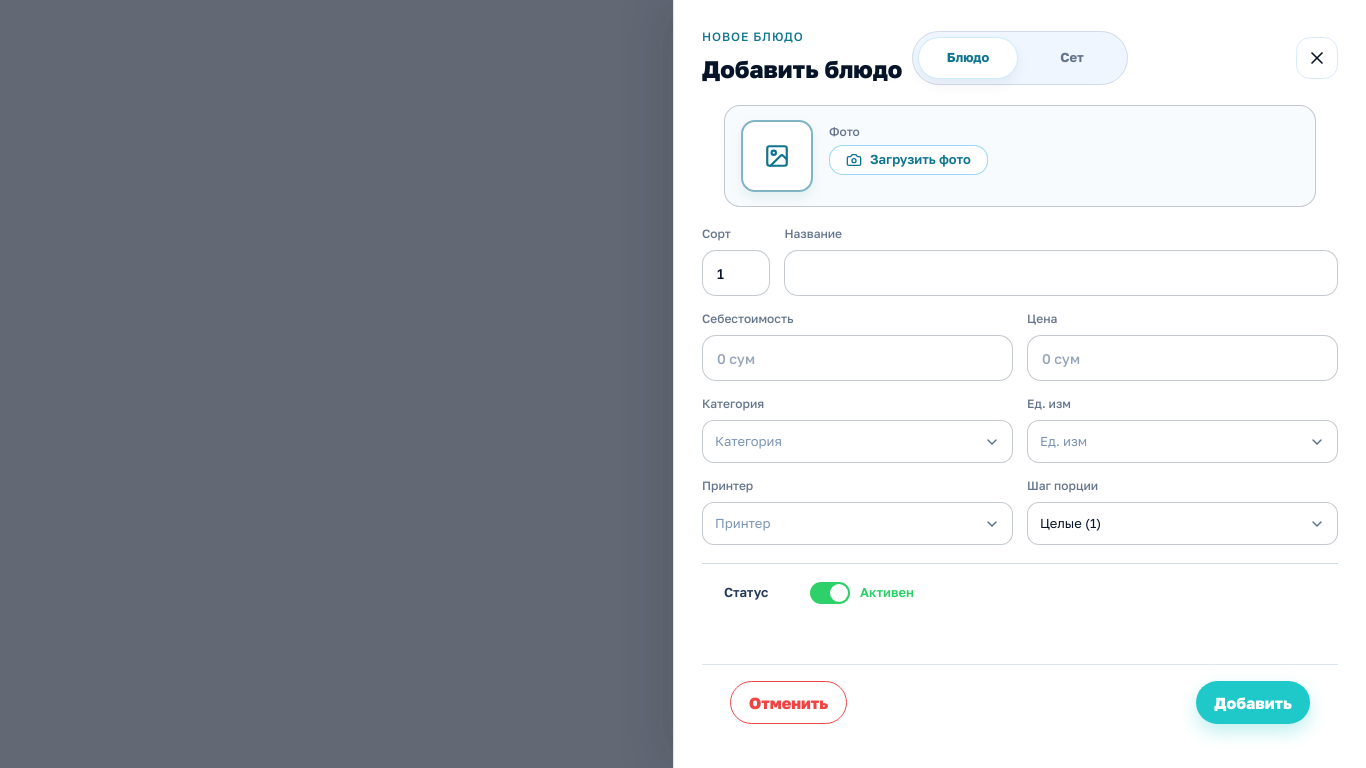
Test case: Dishes drawer switches › uses the printer dropdown pattern for real unit labels without a choose-unit option
This screenshot has width=1366, height=768.
Click the dropdown labelled "Ед. изм": (1064, 441) [1027,420,1338,463]
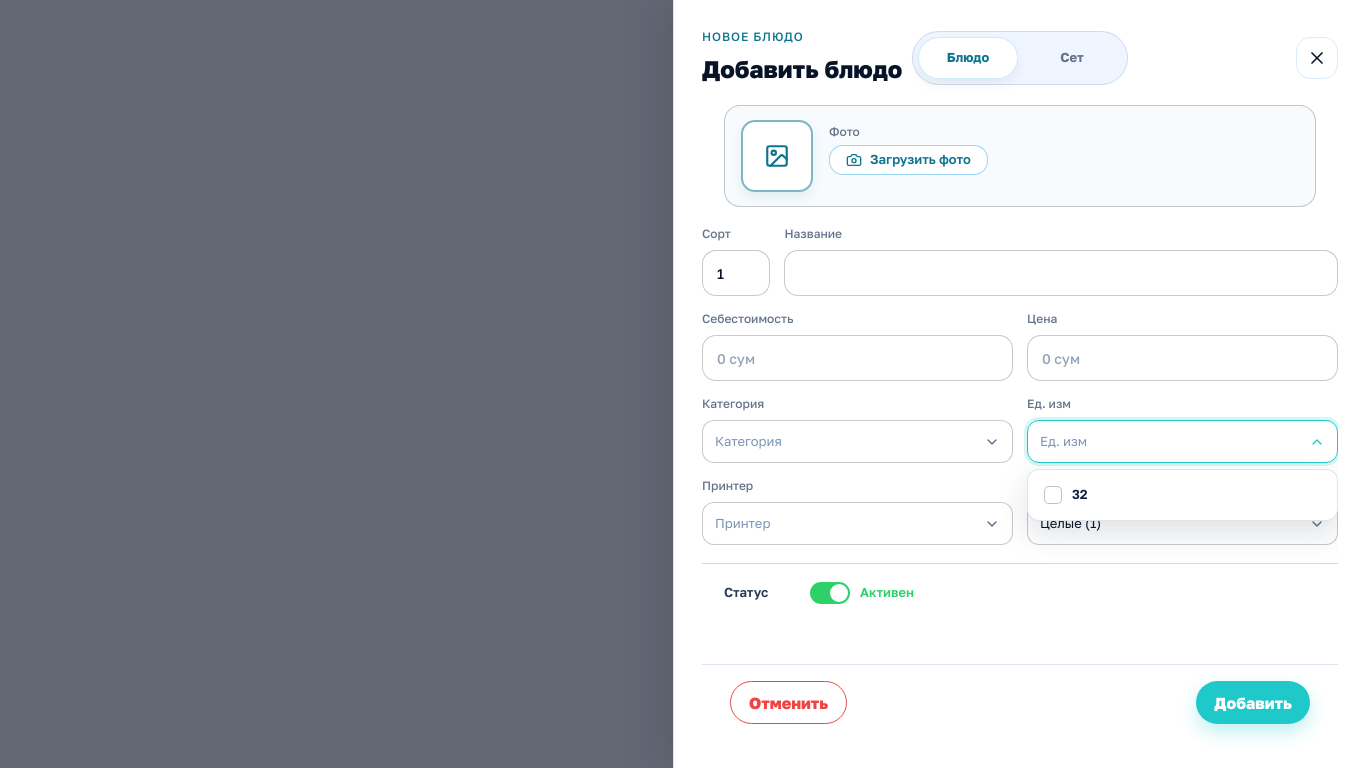
Click the option "32": (1053, 495) [1034,476,1331,514]
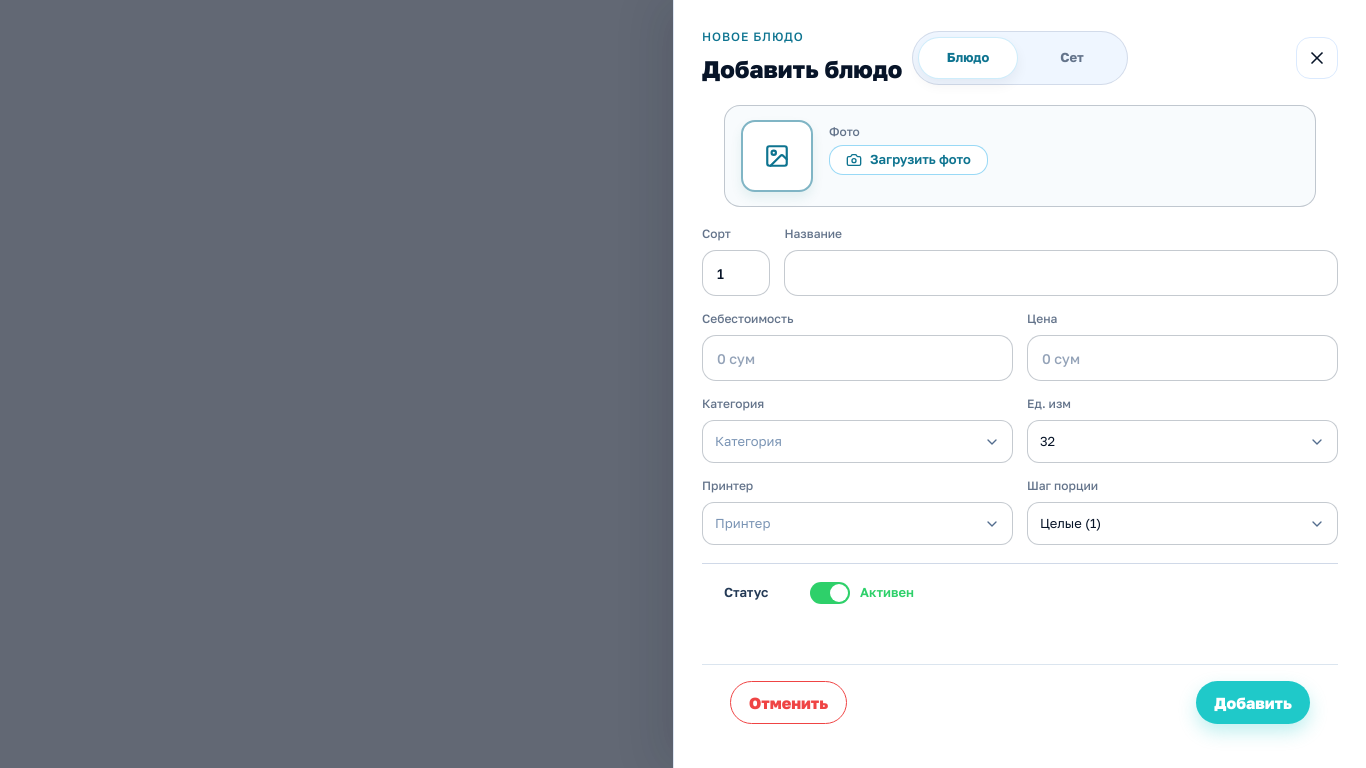
Check: the dropdown named "Ед. изм" reads "32", box [1027,420,1338,463]
